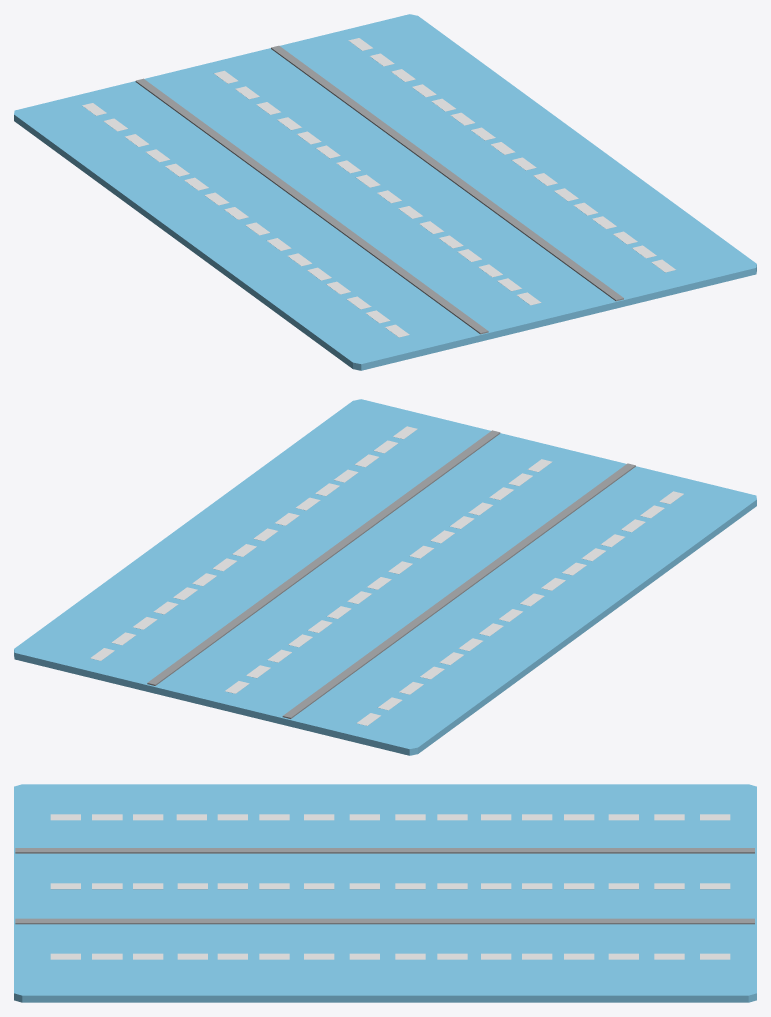
The model's file is SnowStreet.glb.
3 views of the same model, one above another, from view 1: azimuth 30°, elevation 25°; view 2: azimuth 150°, elevation 25°; view 3: azimuth 270°, elevation 25° (orthographic). The views are drawn at different scales.
Visible parts, largest first — view 1: WhiteStreet; view 2: WhiteStreet; view 3: WhiteStreet.
Boxes of the visible parts, x1,y1,x2,y2 form: WhiteStreet: (14, 14, 756, 370); WhiteStreet: (14, 399, 756, 755); WhiteStreet: (14, 784, 756, 1002).
Size of the model in its own units: 19.64 by 0.3713 by 29.17.
